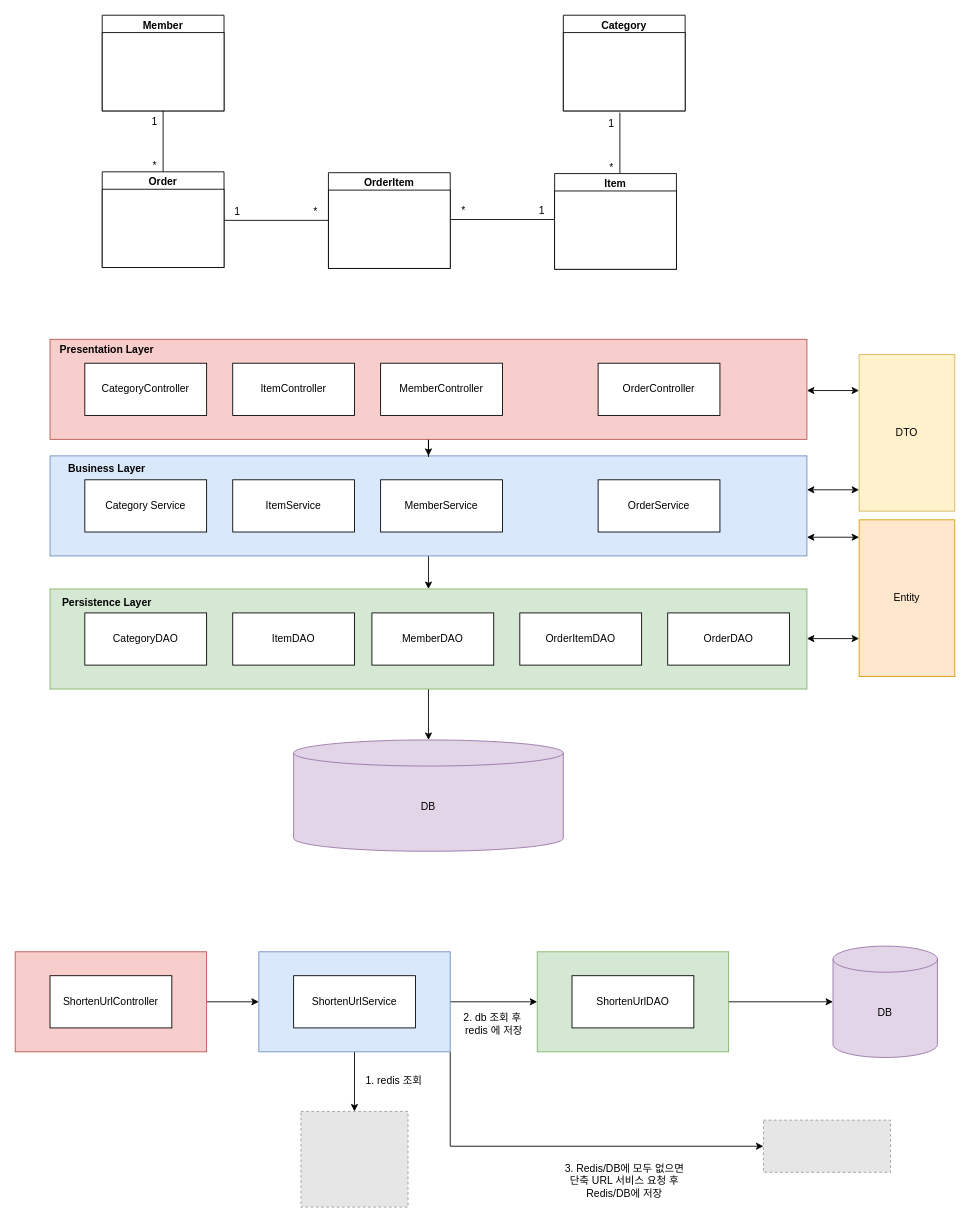
The diagram is 970 pixels wide and 1222 high, and some of its shapes have lost their labels. Grey dashed boxes stand in for pictures. The shapes that lost their labels are listed below. From the top down, each one's centre as x and y in pixels, then its label:
At (x=162, y=71): "id : String address : String phoneNumber: String orders : List".
At (x=623, y=71): "id : Long name : String items : List".
At (x=162, y=228): "id : Long member : Member orderItems : List orderDate : Date".
At (x=389, y=228): "id : Long order : Order item : Item count : int".
At (x=615, y=229): "id : Long name : String price : int remainQty : int category : Category".
